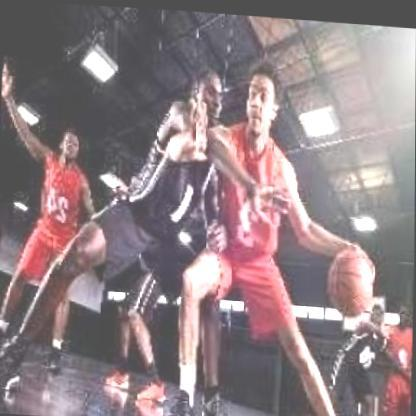basketball: (324, 239, 376, 313)
